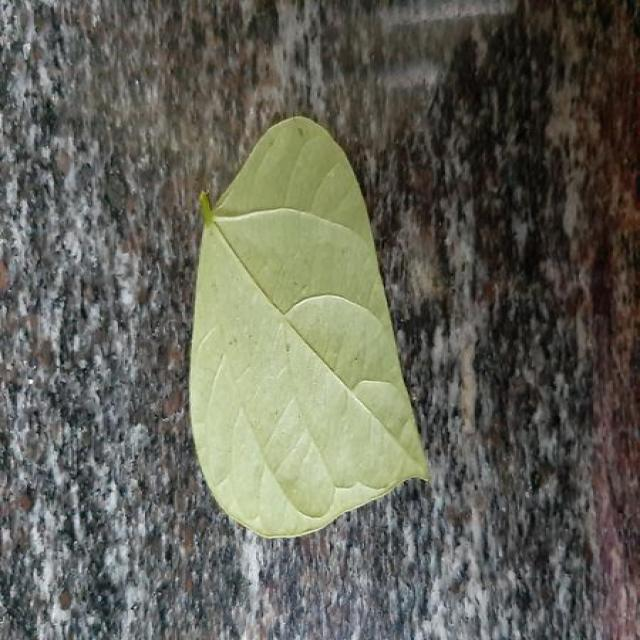beans: (190, 116, 428, 537)
